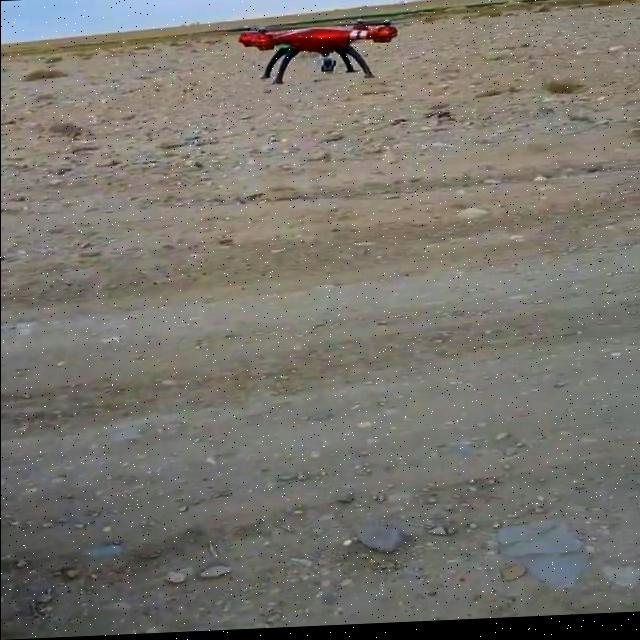drone: (215, 14, 415, 92)
